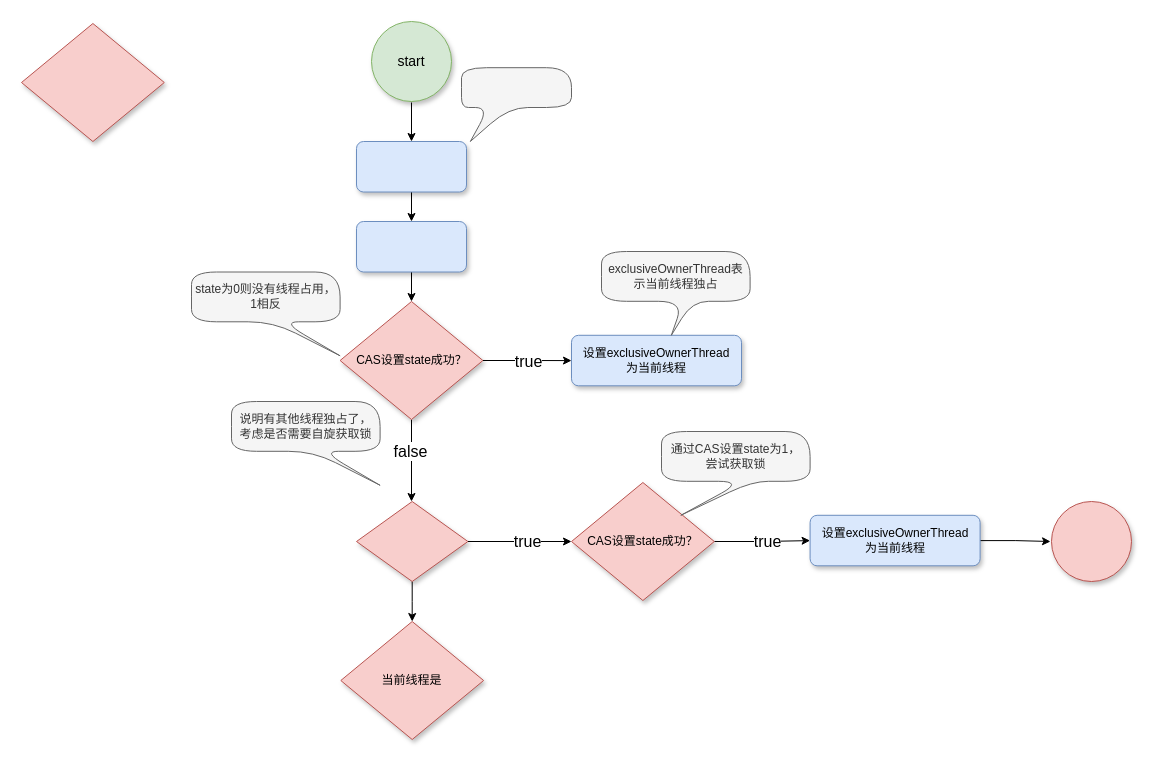
This 1155x764 diagram has some shape labels left out. The centre of each missing label's shape, as x and y in pixels:
return true: point (1092, 542)
state为0？: point (413, 542)
t1线程lock: point (412, 247)
创建ReentrantLock对象: point (412, 167)
默认实现非公平锁: point (516, 104)
